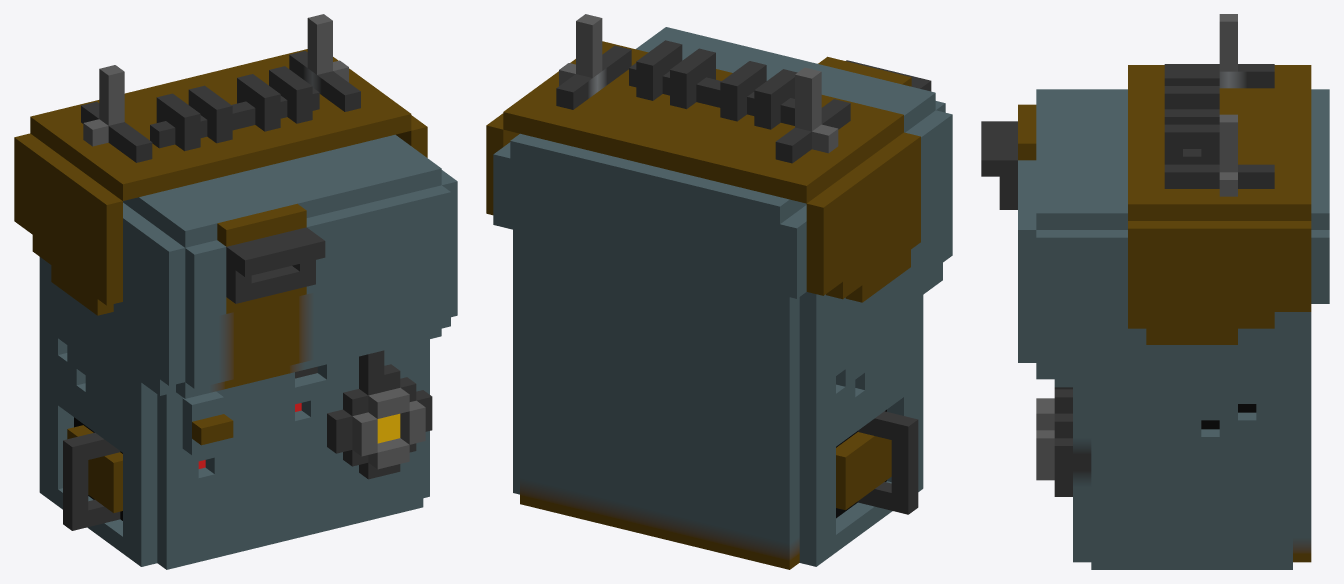
Rendered from Head4.fbx.
3 views of the same model, side by side, from view 1: azimuth 30°, elevation 25°; view 2: azimuth 150°, elevation 25°; view 3: azimuth 270°, elevation 25° (orthographic). The views are drawn at different scales.
Parts seen in each view (by area): view 1: Head4; view 2: Head4; view 3: Head4.
Boxes of the visible parts, bbox=[...] form: Head4: bbox=[14, 14, 457, 569]; Head4: bbox=[486, 14, 952, 569]; Head4: bbox=[981, 14, 1329, 569].
Size of the model in its own units: 105 by 130 by 95.
